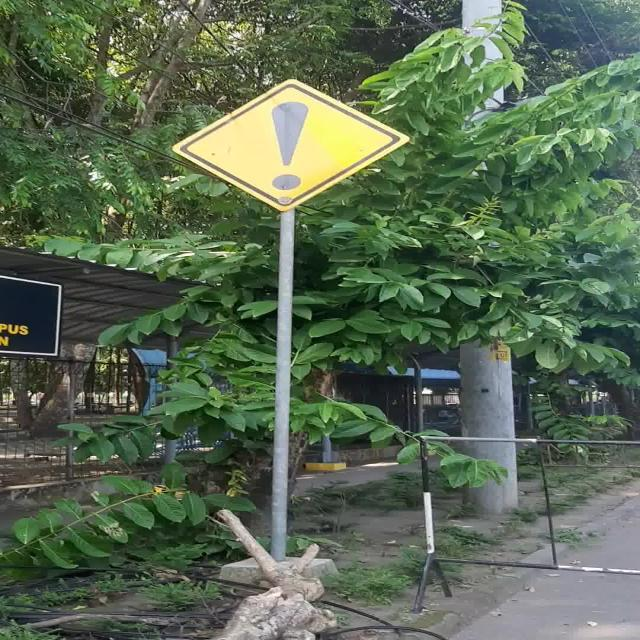Hati-Hati: (170, 78, 410, 210)
